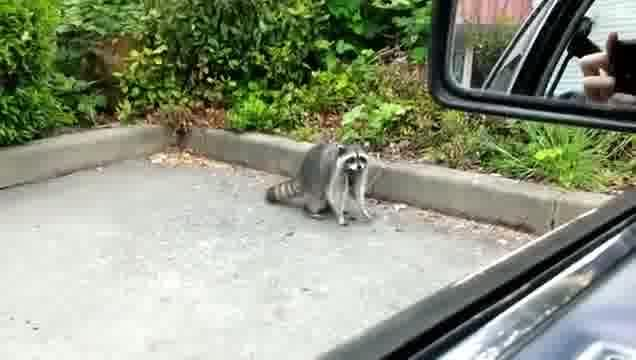raccoon: (266, 141, 375, 225)
